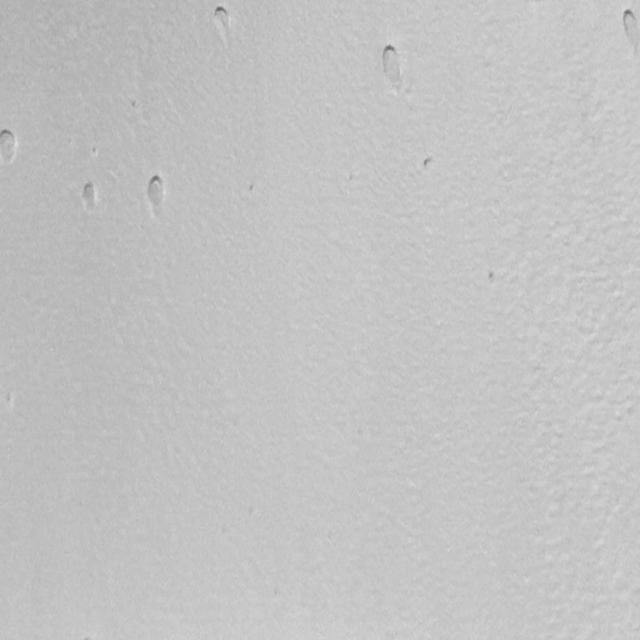pin holes: (376, 39, 408, 92), (617, 7, 639, 53), (146, 174, 170, 212), (210, 1, 237, 34), (1, 127, 22, 164), (79, 181, 101, 213), (420, 153, 441, 174), (245, 182, 259, 198)
